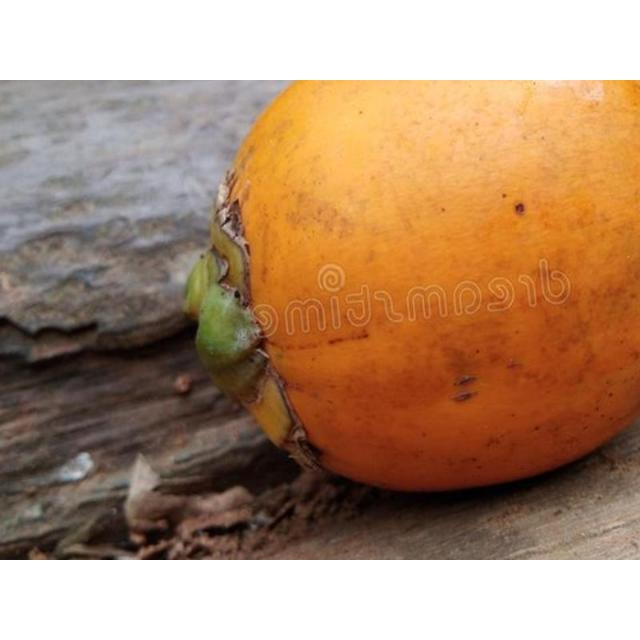good: (184, 80, 639, 494)
